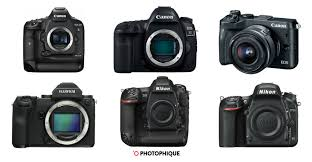camera: (218, 86, 298, 149), (13, 85, 93, 147), (115, 11, 194, 71), (219, 10, 296, 71), (121, 83, 189, 145), (24, 14, 84, 72)
